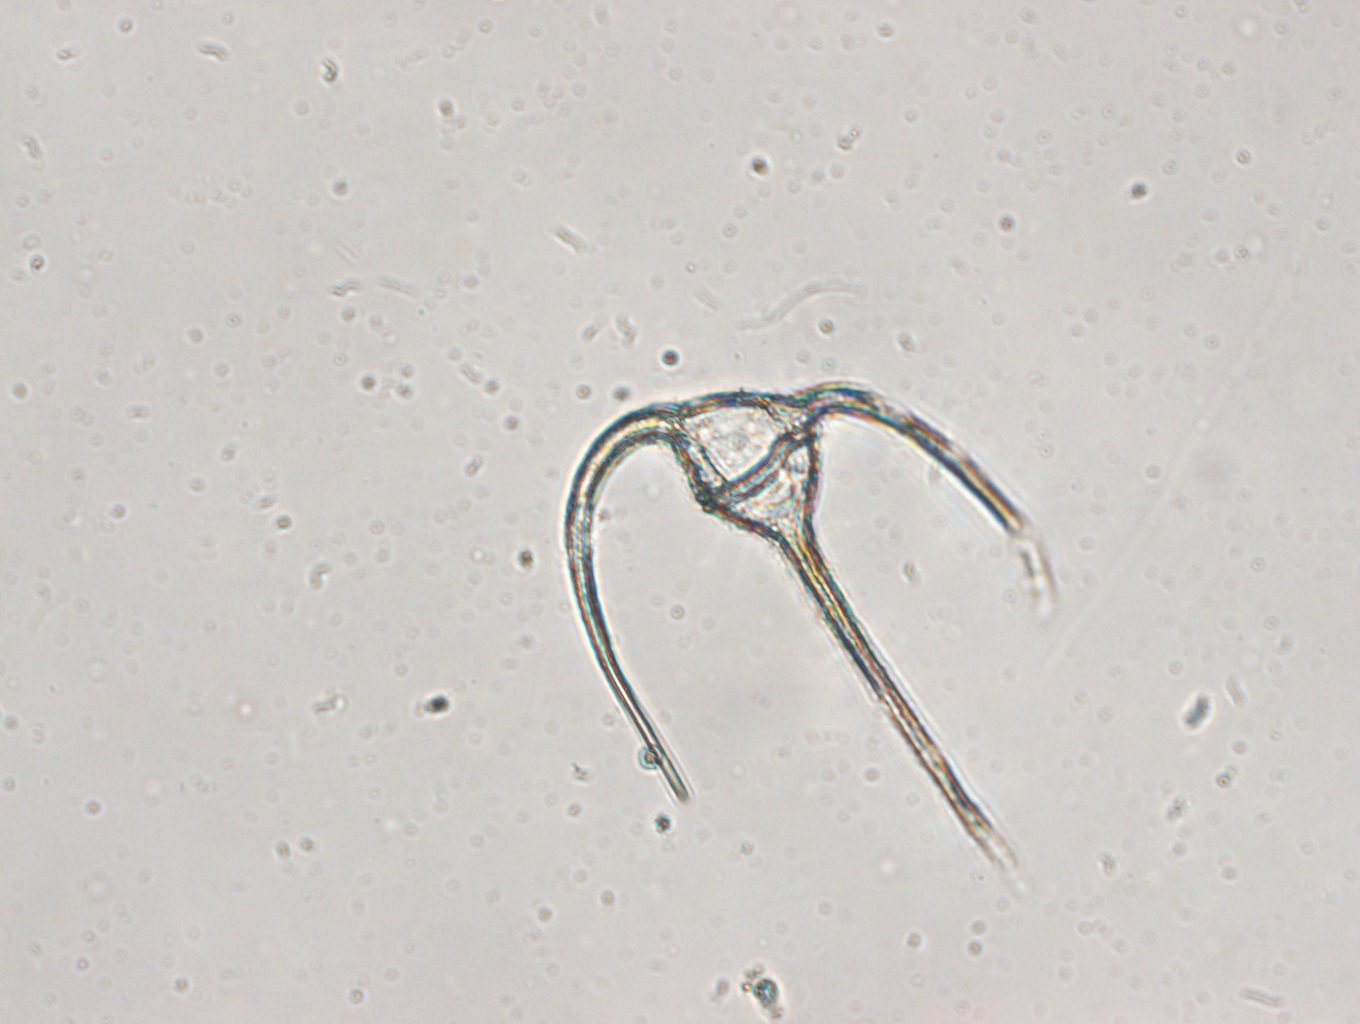ceratium trichoceros: (553, 372, 1076, 896)
